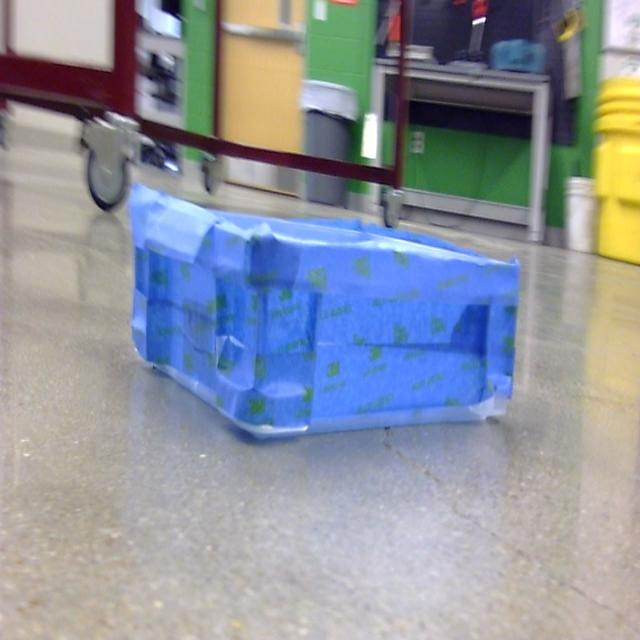bucket: (126, 184, 522, 445)
